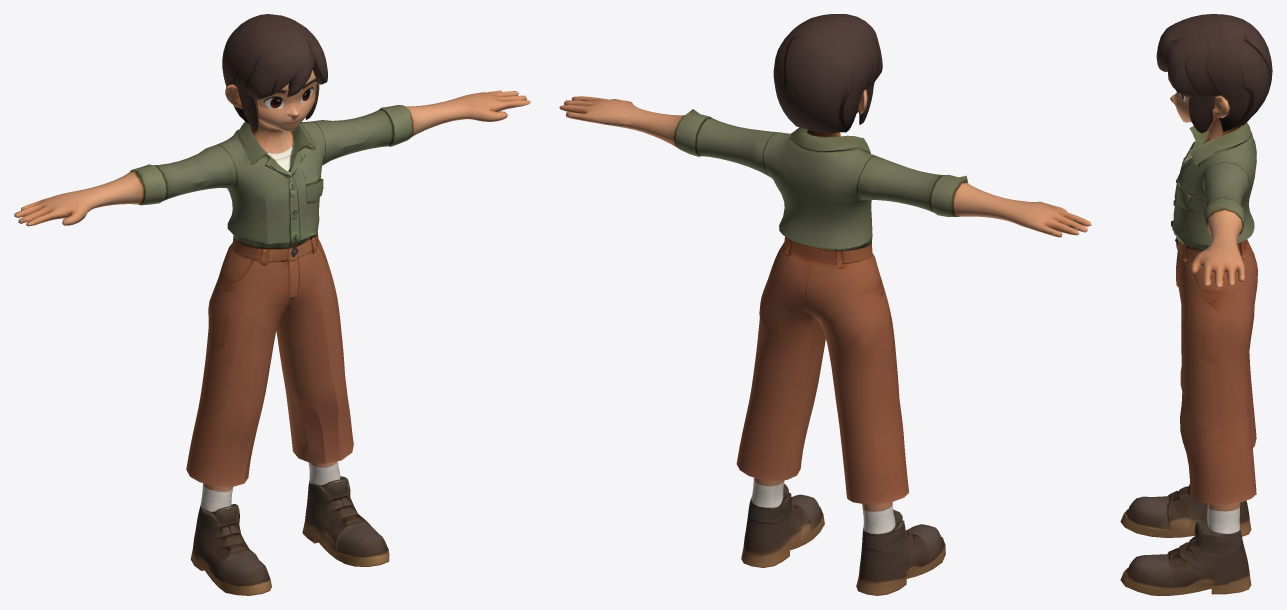
The model's file is female_common.obj.
3 views of the same model, side by side, from view 1: azimuth 30°, elevation 25°; view 2: azimuth 150°, elevation 25°; view 3: azimuth 270°, elevation 25° (orthographic). The views are drawn at different scales.
Parts seen in each view (by area): view 1: model; view 2: model; view 3: model.
Boxes of the visible parts, x1,y1,x2,y2 form: model: [14, 14, 530, 595]; model: [559, 14, 1091, 595]; model: [1120, 14, 1272, 595].
Bounding box in the file's own units: 1.72 × 1.71 × 0.4394.
1 material, 1 textured.
